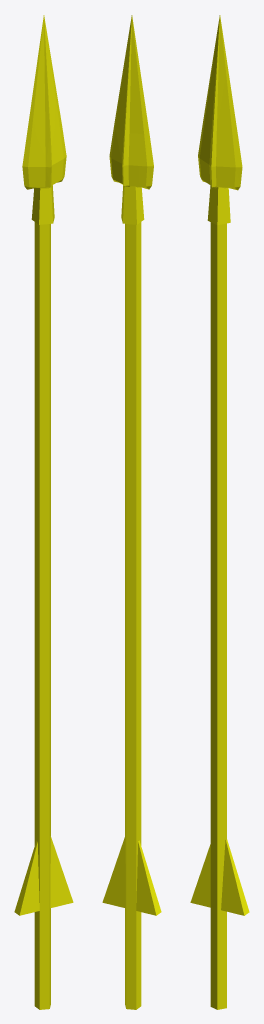
File: _arrow_b_14.glb
3 renders of one model, left to right at view 1: azimuth 30°, elevation 25°; view 2: azimuth 150°, elevation 25°; view 3: azimuth 330°, elevation 25°, orthographic.
Parts seen in each view (by area): view 1: arrow_b_14; view 2: arrow_b_14; view 3: arrow_b_14.
Boxes of the visible parts, x1,y1,x2,y2 form: arrow_b_14: (14, 15, 73, 1009); arrow_b_14: (102, 15, 161, 1009); arrow_b_14: (190, 15, 249, 1009).
Bounding box in the file's own units: 0.0379 × 0.6653 × 0.018.
Materials: 1 (1 with a texture image).
